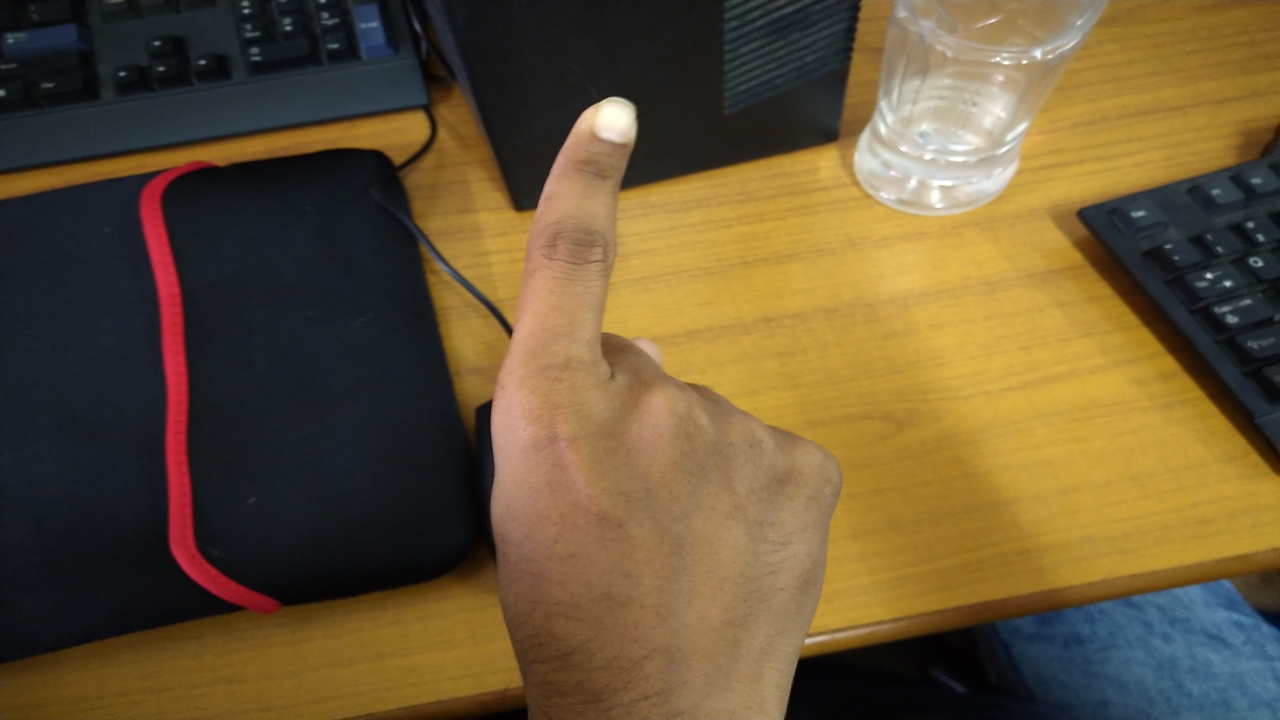fingertip: (572, 94, 644, 154)
